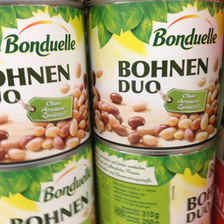beans: (89, 1, 224, 150), (1, 2, 84, 161)
